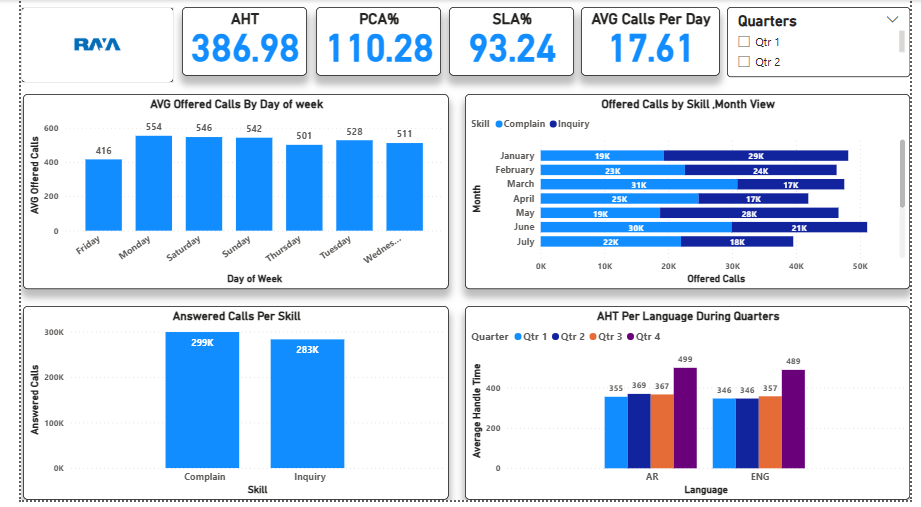

This screenshot's page, from the dashboard's own definition file:
{"tool":"powerbi","page":{"name":"Call Data","canvas":[1280,720],"ordinal":0},"visuals":[{"type":"card","title":"AHT","fields":{"Values":["Measures (2).Average Handle Time"]},"box":[231.8,10.1,180,99.4],"z":0},{"type":"card","title":"PCA%","fields":{"Values":["Measures (2).% Percent Of Answered Calls"]},"box":[424.8,10.1,180,99.4],"z":1000},{"type":"card","title":"SLA%","fields":{"Values":["Measures (2).%Service Level Agreement"]},"box":[616.3,10.1,180,99.4],"z":2000},{"type":"image","box":[0,10.1,220.3,109.4],"z":3000},{"type":"card","title":"AVG Calls Per Day","fields":{"Values":["Measures (2).Avg. Offered Calls / Day"]},"box":[806.4,10.1,200.2,99.4],"z":4000},{"type":"barChart","title":"Offered Calls by Skill ,Month View","fields":{"Category":["Calls Data.Date.Variation.Date Hierarchy.Month"],"Series":["Calls Data.Skill"],"Y":["Measures (2).Offered Calls"]},"box":[655.2,136.8,610.6,279.4],"z":5000},{"type":"clusteredColumnChart","title":"AVG Offered Calls By Day of week","fields":{"Category":["Calls Data.Day of Week"],"Y":["Measures (2).AVG Offered Calls"]},"box":[25.9,136.8,613.4,280.8],"z":6000},{"type":"clusteredColumnChart","title":"AHT Per Language During Quarters","fields":{"Series":["Calls Data.Date.Variation.Date Hierarchy.Quarter"],"Y":["Measures (2).Average Handle Time"],"Category":["Calls Data.Language"]},"box":[655.2,440.6,625,279.4],"z":7000},{"type":"columnChart","title":"Answered Calls Per Skill","fields":{"Category":["Calls Data.Skill"],"Y":["Measures (2).Answered Calls"]},"box":[25.9,440.6,613.4,279.4],"z":8000},{"type":"slicer","fields":{"Values":["Calls Data.Date.Variation.Date Hierarchy.Quarter"]},"box":[1016.6,10.1,263.5,100.8],"z":9000}]}

Visuals, with their boxes in screenshot pixels (x1, y1, x2, y2), scaled from the page's 1280x720 canvas onto the 921x507 screenshot:
"AHT" card: <region>167, 7, 296, 77</region>
"PCA%" card: <region>306, 7, 435, 77</region>
"SLA%" card: <region>443, 7, 573, 77</region>
image: <region>0, 7, 159, 84</region>
"AVG Calls Per Day" card: <region>580, 7, 724, 77</region>
"Offered Calls by Skill ,Month View" barChart: <region>471, 96, 911, 293</region>
"AVG Offered Calls By Day of week" clusteredColumnChart: <region>19, 96, 460, 294</region>
"AHT Per Language During Quarters" clusteredColumnChart: <region>471, 310, 920, 506</region>
"Answered Calls Per Skill" columnChart: <region>19, 310, 460, 506</region>
slicer - Calls Data.Date.Variation.Date Hierarchy.Quarter: <region>731, 7, 920, 78</region>
